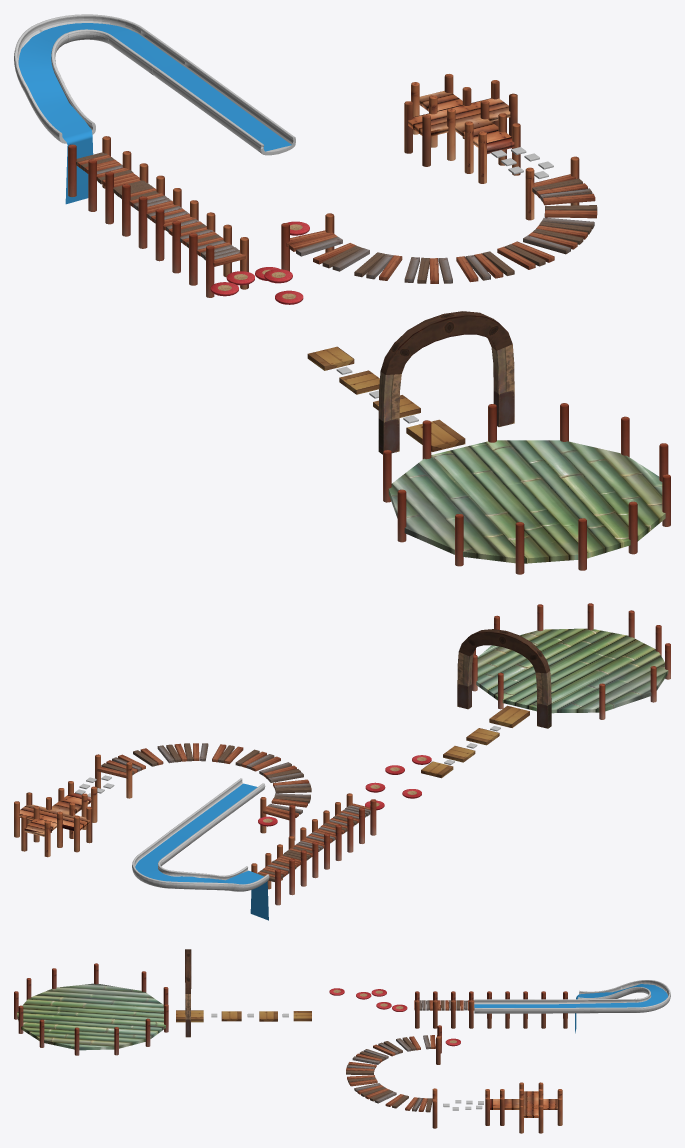
File: level_01_mod.fbx
3 renders of one model, top to bottom at view 1: azimuth 30°, elevation 25°; view 2: azimuth 150°, elevation 25°; view 3: azimuth 270°, elevation 25°, orthographic. The views are drawn at different scales.
Parts seen in each view (by area): view 1: end_stage, slider_combine, curve_path, strait_path, starting_stage, pCube3, pCube4; view 2: end_stage, slider_combine, curve_path, strait_path, starting_stage, pCube3, pCube4; view 3: end_stage, slider_combine, curve_path, starting_stage, strait_path, pCube3, pCube4.
Part boxes in pixels (x1=…): end_stage: x1=383, y1=403, x2=670, y2=574; slider_combine: x1=14, y1=14, x2=295, y2=204; curve_path: x1=281, y1=156, x2=597, y2=283; strait_path: x1=68, y1=136, x2=248, y2=297; starting_stage: x1=404, y1=74, x2=520, y2=183; pCube3: x1=378, y1=311, x2=514, y2=454; pCube4: x1=406, y1=419, x2=465, y2=451; end_stage: x1=472, y1=603, x2=670, y2=719; slider_combine: x1=132, y1=778, x2=269, y2=920; curve_path: x1=95, y1=743, x2=311, y2=840; strait_path: x1=251, y1=793, x2=376, y2=905; starting_stage: x1=14, y1=781, x2=97, y2=857; pCube3: x1=457, y1=629, x2=551, y2=728; pCube4: x1=489, y1=705, x2=529, y2=727; end_stage: x1=14, y1=963, x2=168, y2=1055; slider_combine: x1=474, y1=980, x2=670, y2=1033; curve_path: x1=346, y1=1025, x2=441, y2=1128; starting_stage: x1=485, y1=1082, x2=562, y2=1133; strait_path: x1=414, y1=991, x2=567, y2=1028; pCube3: x1=185, y1=949, x2=191, y2=1037; pCube4: x1=176, y1=1010, x2=203, y2=1022.
Size of the model in its own units: 8.26 by 2.27 by 17.
